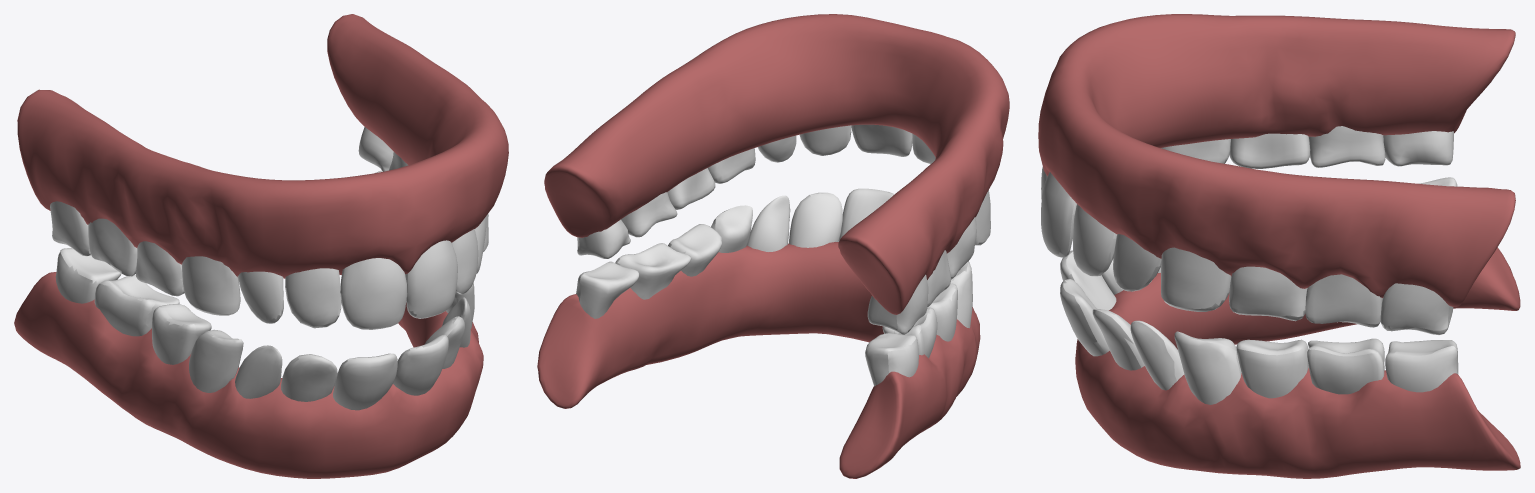
The model's file is teeth.glb.
The picture shows the model from 3 angles, left to right: view 1: azimuth 30°, elevation 25°; view 2: azimuth 150°, elevation 25°; view 3: azimuth 270°, elevation 25°; orthographic projection. The views are drawn at different scales.
Parts seen in each view (by area): view 1: gums, closed_mid, closed_left, open_left_down, open_right_up, open_mid_down, open_mid_up; view 2: gums, open_right_down, closed_left, open_mid_down, open_right_up, open_mid_up, open_left_down, open_left_up; view 3: gums, closed_right, closed_mid, open_left_up, open_mid_down, open_right_down, open_right_up, open_mid_up.
Boxes of the visible parts, x1=… form: gums: x1=14, y1=14, x2=508, y2=478; closed_mid: x1=235, y1=216, x2=486, y2=410; closed_left: x1=50, y1=201, x2=243, y2=392; open_left_down: x1=60, y1=248, x2=240, y2=368; open_right_up: x1=358, y1=127, x2=485, y2=251; open_mid_down: x1=235, y1=297, x2=466, y2=388; open_mid_up: x1=235, y1=271, x2=477, y2=329; gums: x1=537, y1=14, x2=1009, y2=478; open_right_down: x1=579, y1=205, x2=752, y2=318; closed_left: x1=869, y1=190, x2=990, y2=377; open_mid_down: x1=747, y1=188, x2=893, y2=251; open_right_up: x1=577, y1=148, x2=755, y2=258; open_mid_up: x1=757, y1=124, x2=935, y2=196; open_left_down: x1=865, y1=262, x2=967, y2=386; open_left_up: x1=867, y1=240, x2=986, y2=333; gums: x1=1038, y1=14, x2=1520, y2=478; closed_right: x1=1161, y1=247, x2=1457, y2=404; closed_mid: x1=1041, y1=167, x2=1176, y2=390; open_left_up: x1=1162, y1=126, x2=1453, y2=168; open_mid_down: x1=1063, y1=252, x2=1184, y2=380; open_right_down: x1=1178, y1=331, x2=1458, y2=376; open_right_up: x1=1164, y1=276, x2=1453, y2=334; open_mid_up: x1=1052, y1=197, x2=1161, y2=314.
Bounding box in the file's own units: 0.9359 × 0.7521 × 0.962.
